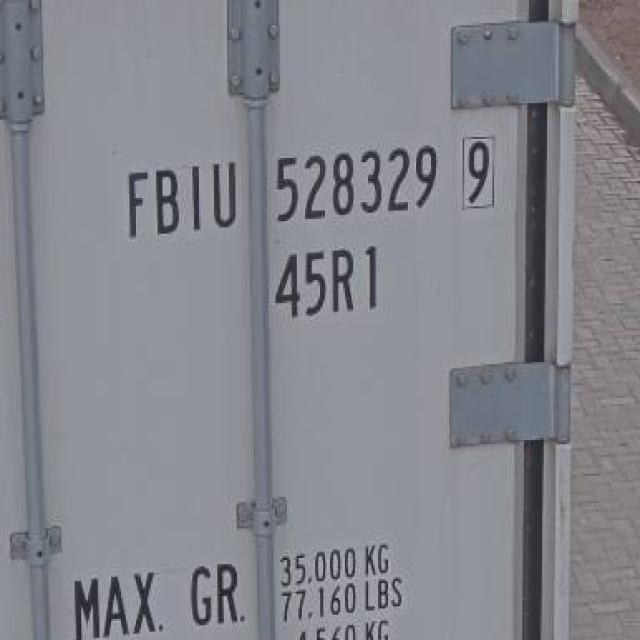dv: (454, 129, 501, 217)
owner: (120, 147, 244, 246)
serial: (263, 139, 442, 225)
size: (268, 240, 388, 322)
